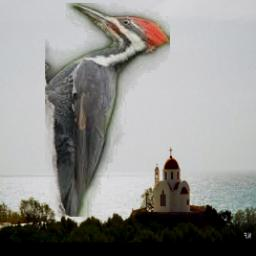Woodpecker: (44, 4, 169, 218)
